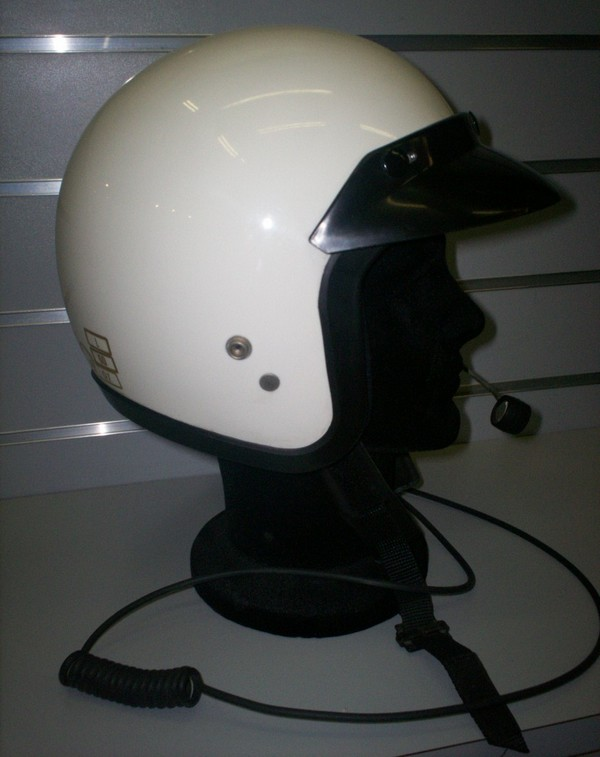helmet: (38, 15, 364, 461)
